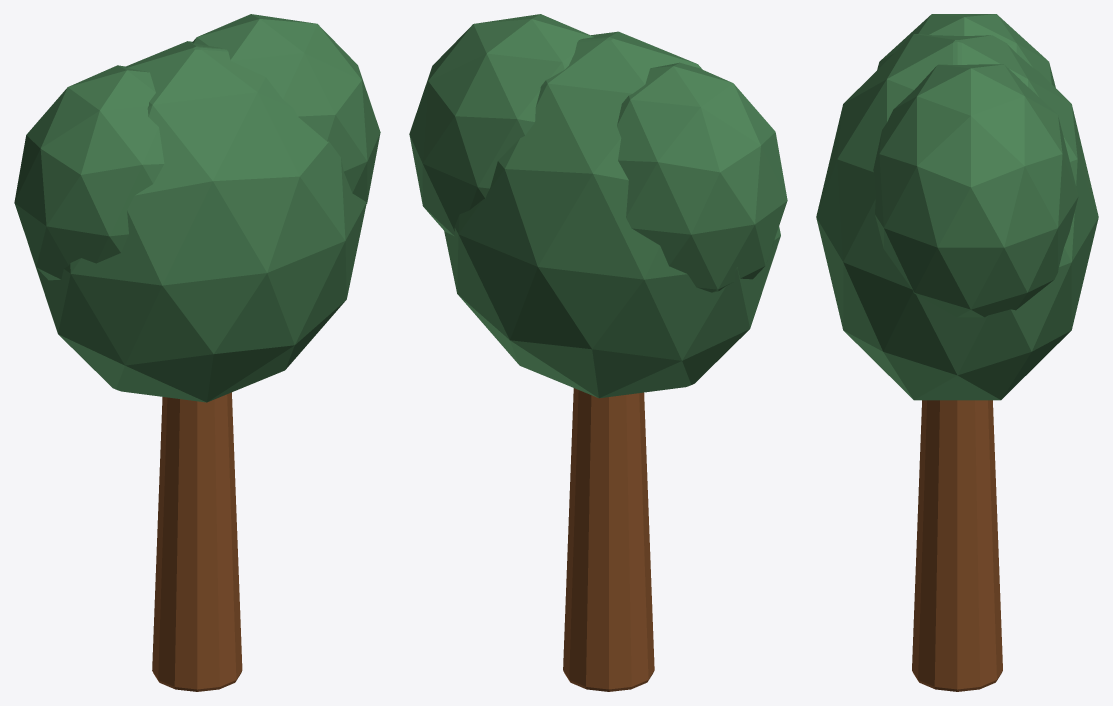
File: SM_MeadowTree.fbx
3 renders of one model, left to right at view 1: azimuth 30°, elevation 25°; view 2: azimuth 150°, elevation 25°; view 3: azimuth 270°, elevation 25°, orthographic.
Visible parts, largest first — view 1: SM_MeadowTree; view 2: SM_MeadowTree; view 3: SM_MeadowTree.
Boxes of the visible parts, x1,y1,x2,y2 form: SM_MeadowTree: [14, 14, 380, 691]; SM_MeadowTree: [409, 14, 787, 691]; SM_MeadowTree: [816, 14, 1098, 691].
Bounding box in the file's own units: 292 × 210 × 525.
